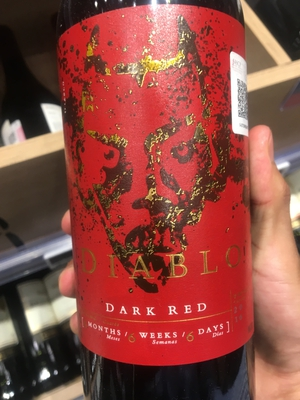diablo dark red: (45, 12, 275, 382)
